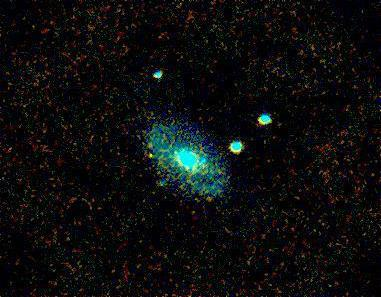star: (136, 140, 166, 170)
